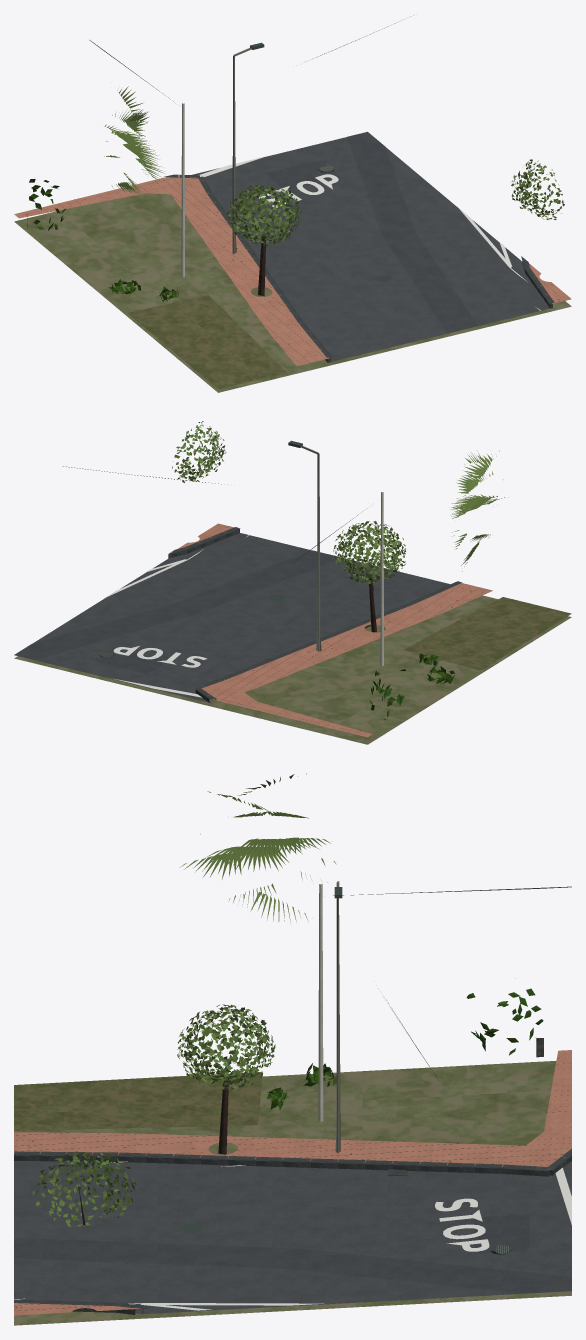
The picture shows the model from 3 angles, top to bottom: view 1: azimuth 30°, elevation 25°; view 2: azimuth 150°, elevation 25°; view 3: azimuth 270°, elevation 25°; orthographic projection. The views are drawn at different scales.
Bounding box in the file's own units: 16 × 10.11 × 16.
Materials: 20 (16 with a texture image).
